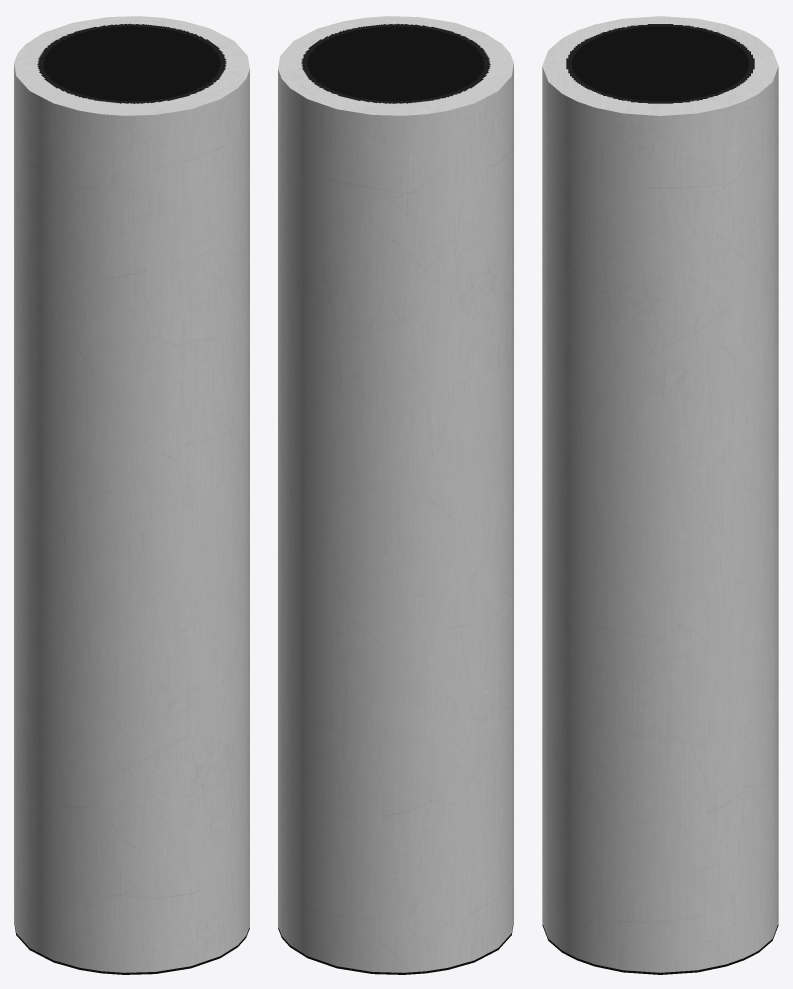
Rendered from cannon.obj.
3 views of the same model, side by side, from view 1: azimuth 30°, elevation 25°; view 2: azimuth 150°, elevation 25°; view 3: azimuth 270°, elevation 25° (orthographic).
Parts seen in each view (by area): view 1: Cannon1, Cannon3, Cannon2; view 2: Cannon1, Cannon3, Cannon2; view 3: Cannon1, Cannon3, Cannon2.
Boxes of the visible parts, x1,y1,x2,y2 form: Cannon1: [14, 16, 249, 972]; Cannon3: [37, 23, 226, 103]; Cannon2: [14, 922, 249, 974]; Cannon1: [278, 16, 513, 972]; Cannon3: [301, 23, 490, 103]; Cannon2: [278, 922, 513, 974]; Cannon1: [542, 16, 778, 972]; Cannon3: [566, 24, 754, 103]; Cannon2: [542, 924, 778, 974].
Size of the model in its own units: 2 by 8.04 by 2.
3 materials, 3 textured.
